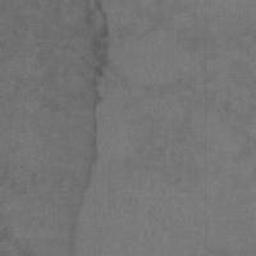Water spot: (0, 0, 111, 256)
